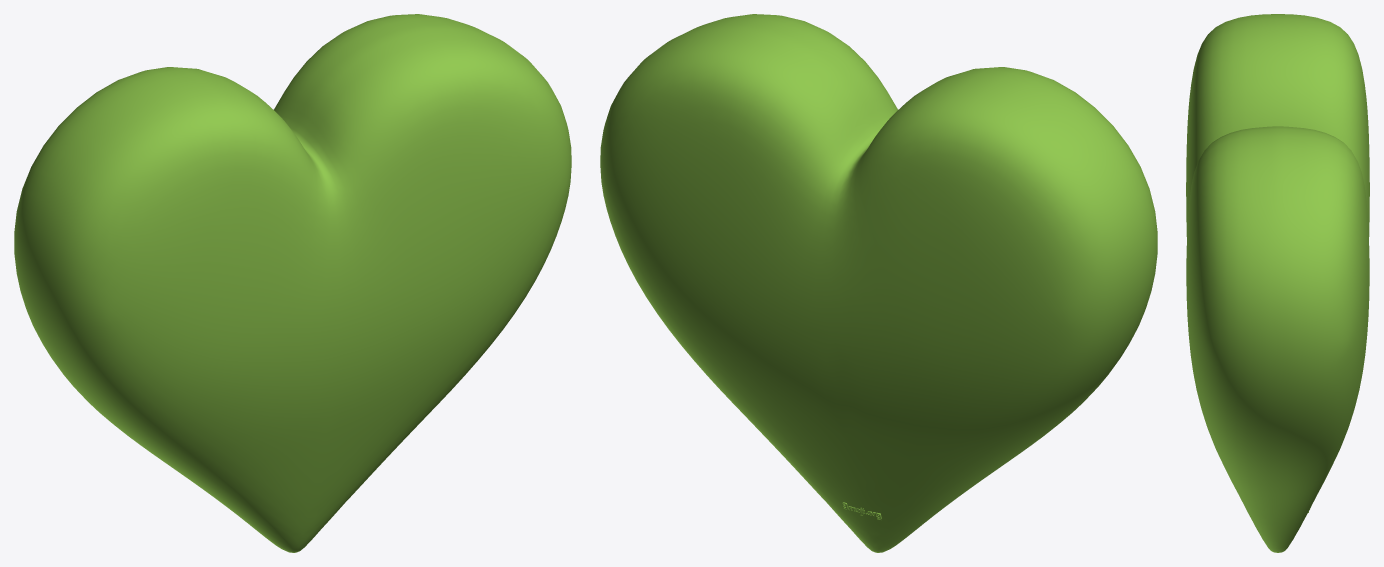
Rendered from green_heart.fbx.
The picture shows the model from 3 angles, left to right: view 1: azimuth 30°, elevation 25°; view 2: azimuth 150°, elevation 25°; view 3: azimuth 270°, elevation 25°; orthographic projection. The views are drawn at different scales.
Parts seen in each view (by area): view 1: hfdjkslfjkds.021; view 2: hfdjkslfjkds.021; view 3: hfdjkslfjkds.021.
Boxes of the visible parts, left/top/right/bottom form: hfdjkslfjkds.021: left=14, top=14, right=571, bottom=552; hfdjkslfjkds.021: left=600, top=14, right=1157, bottom=552; hfdjkslfjkds.021: left=1186, top=14, right=1369, bottom=552.
Bounding box in the file's own units: 186 × 168 × 59.56.
Materials: 1 (1 with a texture image).
